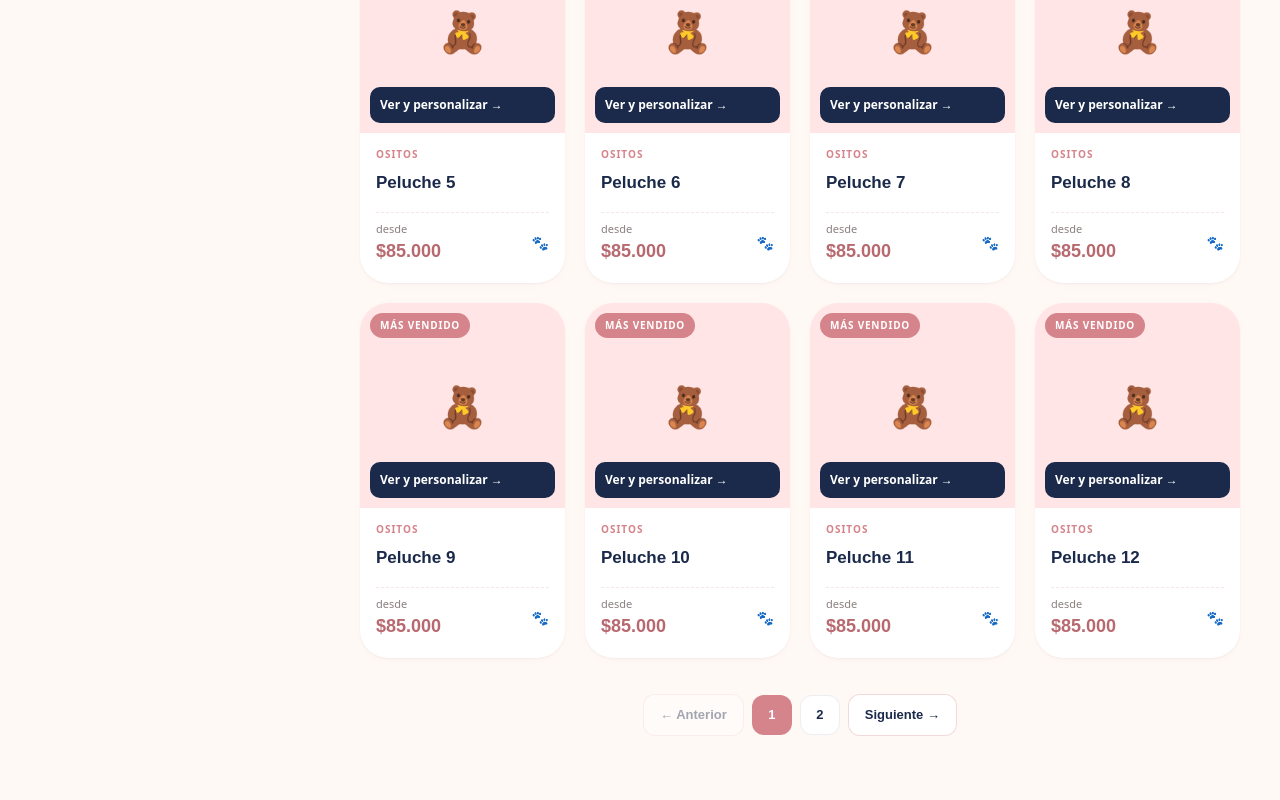
Test case: CatalogPage › shows the remaining cards after navigating to the next page
The width and height of the screenshot is (1280, 800).
(page scrolled)
Expected: the heading "Peluche 12" is shown, [1051,548,1140,567]
Click the button with aria-label "página siguiente". click: [902, 715]
box: [848,694,957,736]
(page scrolled)
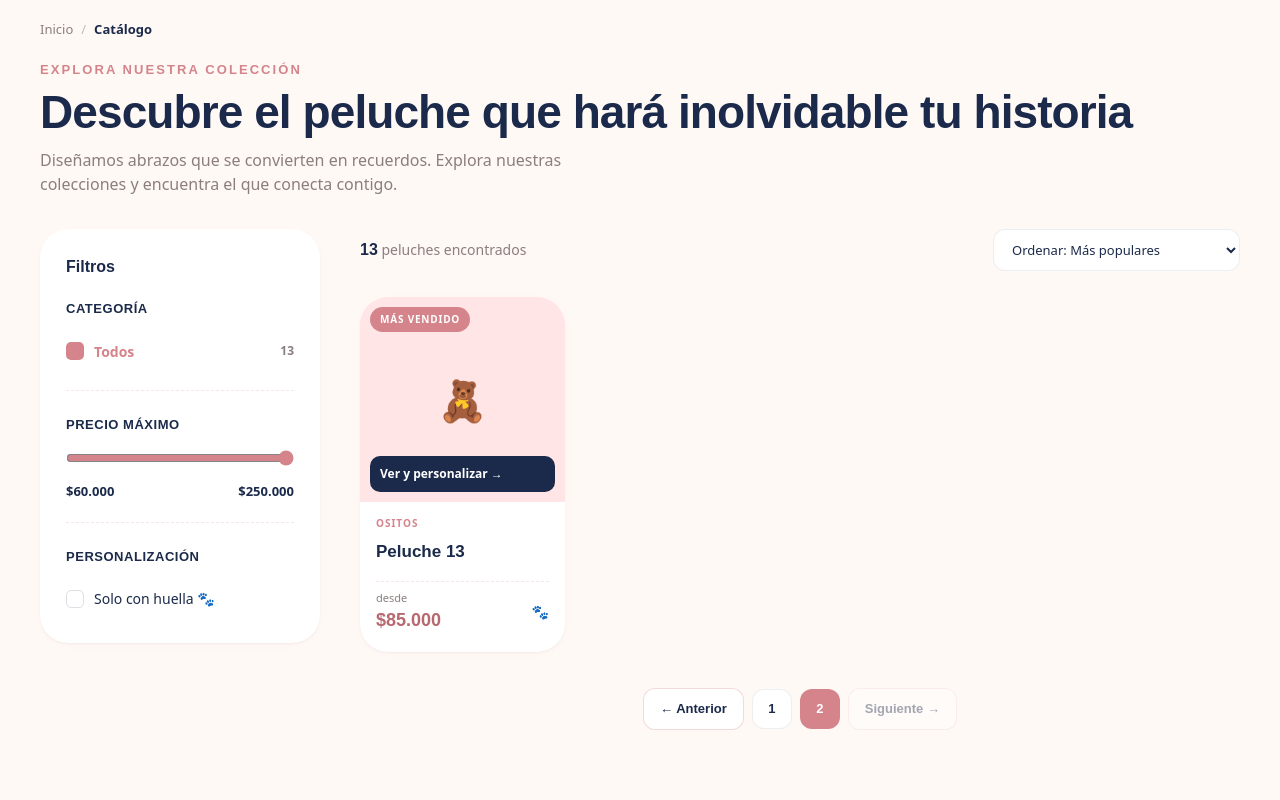
Expected: the heading "Peluche 13" is shown, [376,542,465,561]
